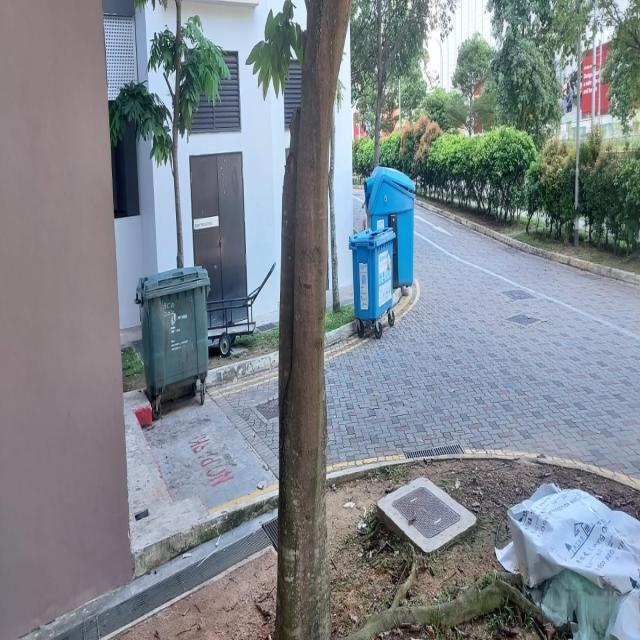bin_empty: (134, 264, 213, 422), (364, 166, 414, 282), (348, 225, 396, 335), (566, 82, 573, 111)
bulk_waste: (496, 480, 640, 639)
